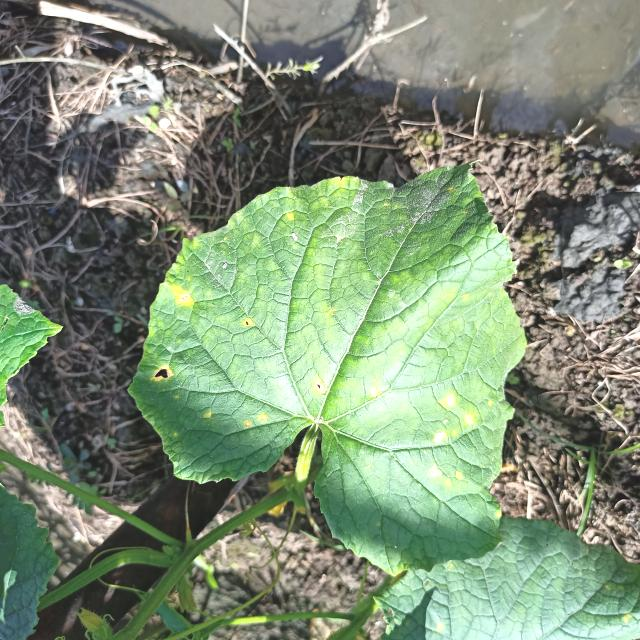disease_cucumber: (427, 392, 478, 490), (166, 283, 198, 308), (149, 361, 177, 385), (242, 409, 272, 430), (312, 378, 328, 393), (370, 386, 380, 400), (242, 318, 254, 328)
